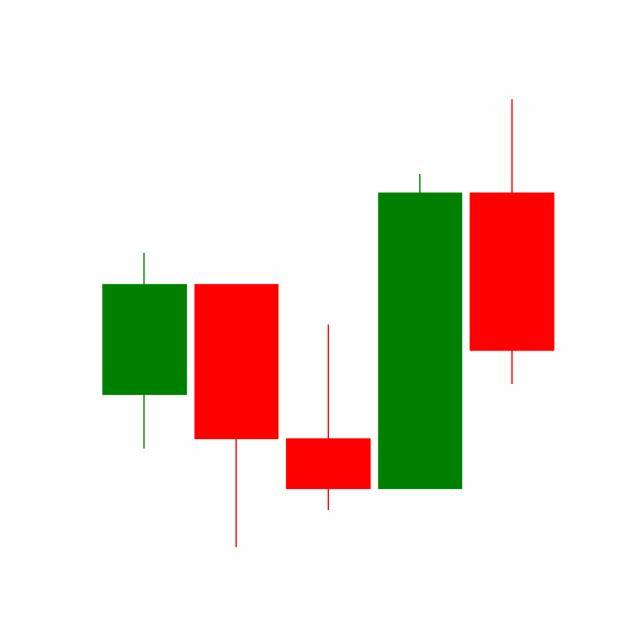Marubozu: (374, 171, 468, 493)
